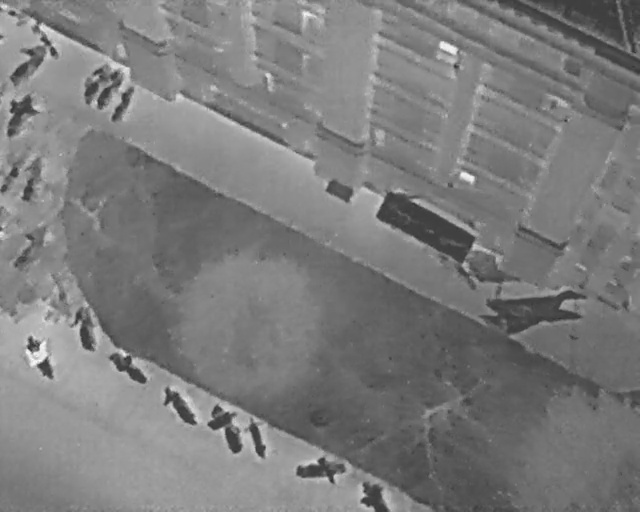Bicycle: (198, 394, 255, 461), (15, 327, 63, 389), (152, 379, 205, 435), (0, 37, 52, 92), (101, 341, 156, 391), (3, 221, 54, 274), (74, 56, 118, 110), (0, 89, 44, 141), (87, 63, 131, 115), (292, 451, 350, 490), (64, 301, 103, 356), (238, 411, 277, 464), (103, 80, 141, 128), (17, 153, 48, 204), (359, 479, 389, 510), (0, 164, 23, 193)
